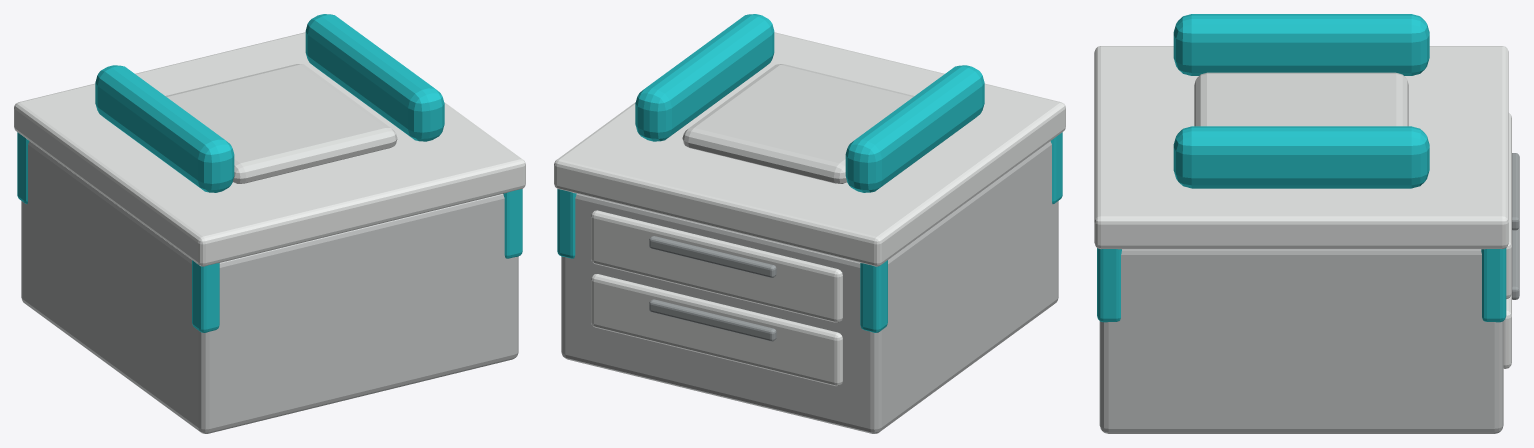
File: AssemblyCounter.fbx
3 views of the same model, side by side, from view 1: azimuth 30°, elevation 25°; view 2: azimuth 150°, elevation 25°; view 3: azimuth 270°, elevation 25° (orthographic). The views are drawn at different scales.
Visible parts, largest first — view 1: MAT_Steel Geometry.003, MAT_SteelLight Geometry.004, MAT_Teal Geometry.003, MAT_Cream Geometry; view 2: MAT_SteelLight Geometry.004, MAT_Steel Geometry.003, MAT_Teal Geometry.003, MAT_Cream Geometry, MAT_SteelDark Geometry.003; view 3: MAT_Steel Geometry.003, MAT_SteelLight Geometry.004, MAT_Teal Geometry.003, MAT_Cream Geometry, MAT_SteelDark Geometry.003.
Boxes of the visible parts, box(x1,y1,x2,y2) form: MAT_Steel Geometry.003: box(21, 141, 518, 433); MAT_SteelLight Geometry.004: box(14, 32, 525, 266); MAT_Teal Geometry.003: box(17, 14, 522, 332); MAT_Cream Geometry: box(165, 64, 397, 183); MAT_SteelLight Geometry.004: box(554, 32, 1065, 386); MAT_Steel Geometry.003: box(561, 141, 1058, 433); MAT_Teal Geometry.003: box(557, 14, 1062, 332); MAT_Cream Geometry: box(682, 64, 914, 183); MAT_SteelDark Geometry.003: box(649, 236, 776, 341); MAT_Steel Geometry.003: box(1099, 249, 1503, 433); MAT_SteelLight Geometry.004: box(1094, 46, 1511, 368); MAT_Teal Geometry.003: box(1097, 14, 1506, 322); MAT_Cream Geometry: box(1194, 72, 1408, 126); MAT_SteelDark Geometry.003: box(1512, 153, 1519, 299).
Bounding box in the file's own units: 162 × 120 × 166.
